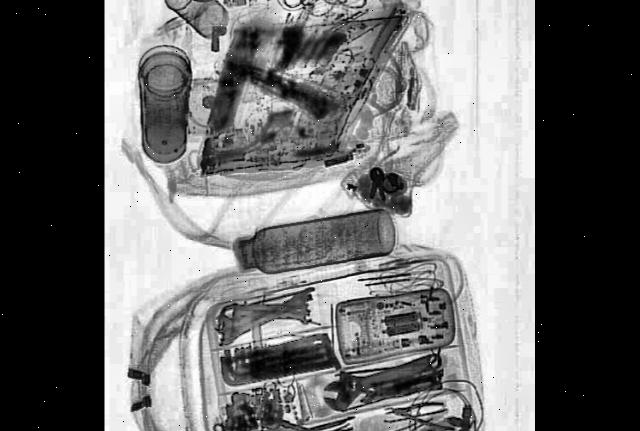Wrench: (321, 340, 444, 419)
